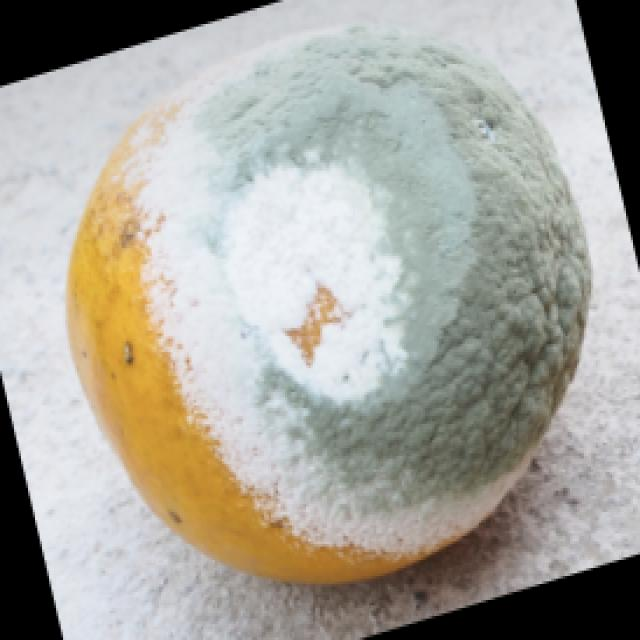sangat_busuk: (68, 26, 593, 588)
